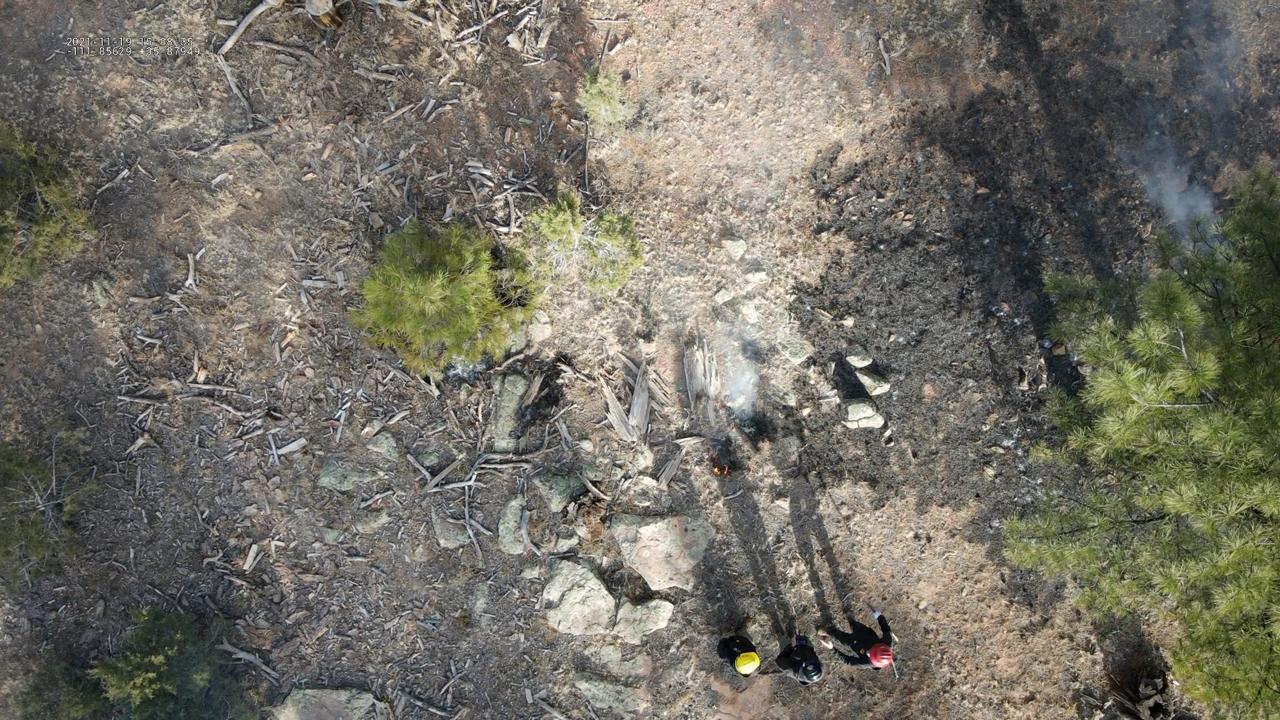fire: (723, 464, 729, 475), (713, 467, 721, 475)
smoke: (1115, 146, 1216, 249), (721, 365, 759, 423)
